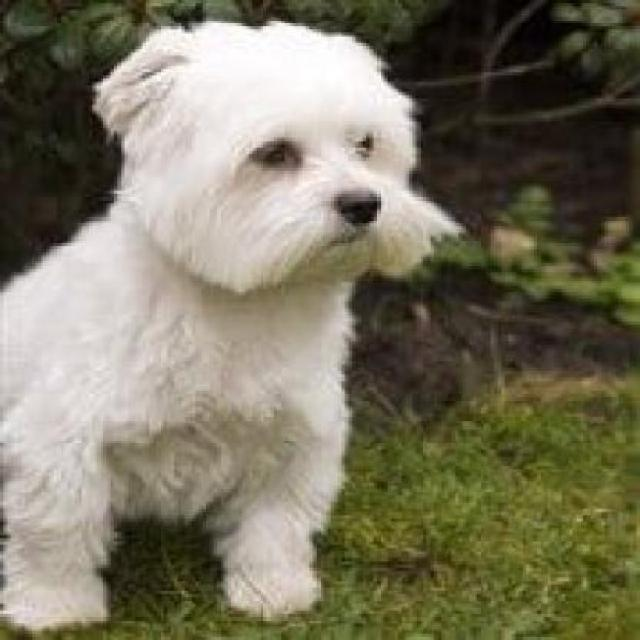Dog: (0, 12, 474, 637)
